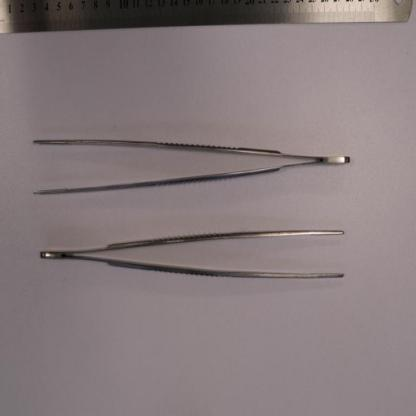DeBakey Dissector: (33, 141, 351, 195), (41, 230, 345, 278)
